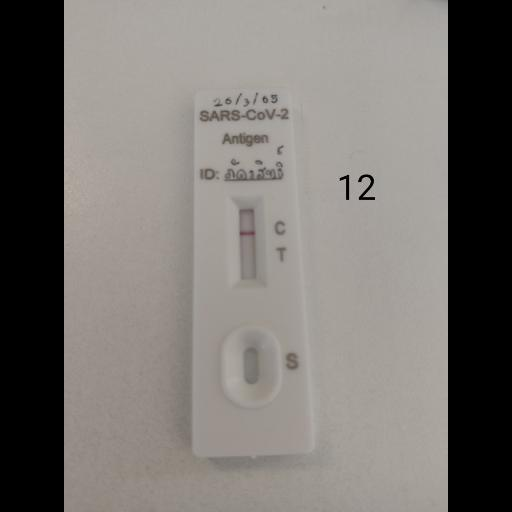Neg: (192, 85, 315, 457)
